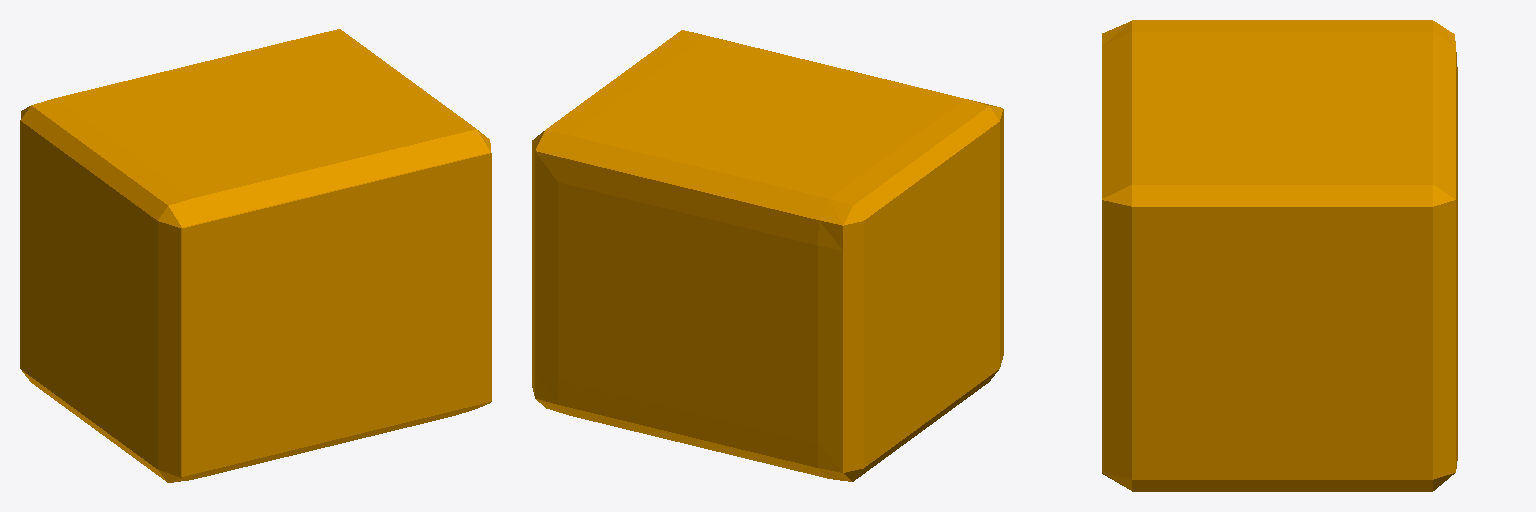
The robot description file, URDF, robot "cylinder_box_104":
<?xml version="1.0" encoding="utf-8"?>  <robot name="cylinder_box_104">   <link name="cylinder_box_104">     <visual>       <geometry>         <mesh filename="../meshes/box/box_104.stl" scale="1 1 1"/>       </geometry>     </visual>     <collision>       <geometry>         <mesh filename="../meshes/box/box_104.stl" scale="1 1 1"/>       </geometry>     </collision>     <inertial>        <origin         xyz="0 0 0"         rpy="0 0 0" />       <mass value="0.22986153270859733"/>       <origin rpy="0 0 0" xyz="0 0 0"/>       <inertia ixx="0.00012525368769553892" ixy="-3.881854609269825e-08" ixz="-1.8614200924790133e-08" iyy="0.00015201407196189335" iyz="5.2007082099665725e-08" izz="0.000157433972632418"/>     </inertial>   </link>  </robot>

--- Render facts (derived) ---
The picture shows the robot from 3 angles, left to right: view 1: azimuth 30°, elevation 25°; view 2: azimuth 150°, elevation 25°; view 3: azimuth 270°, elevation 25°; orthographic projection.
Model cylinder_box_104 with 1 links and 0 joints (none), rooted at cylinder_box_104, posed all joints at 0.
Links seen in each view (by area): view 1: cylinder_box_104; view 2: cylinder_box_104; view 3: cylinder_box_104.
Boxes of the visible links, x1,y1,x2,y2 form: cylinder_box_104: [20, 29, 491, 482]; cylinder_box_104: [532, 30, 1003, 481]; cylinder_box_104: [1102, 20, 1457, 491].
Bounding box of the posed robot: 0.07 × 0.0592 × 0.0566 m (x, y, z).
1 mesh visuals loaded from 1 distinct referenced files (1 binary STL).